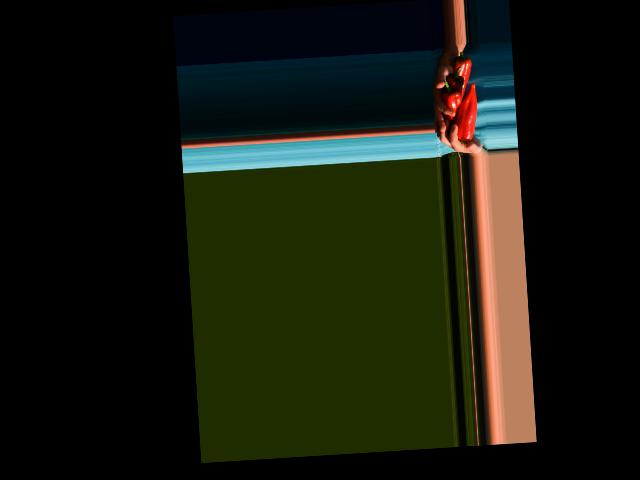bell_pepper: (450, 51, 472, 89)
